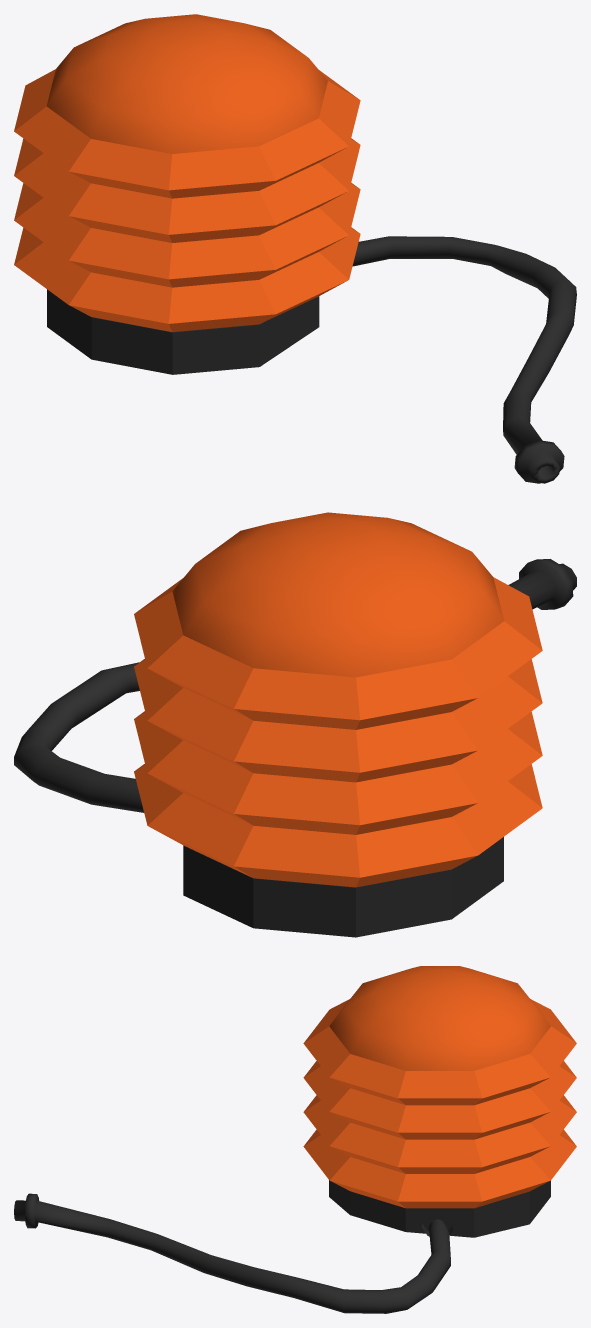
File: leg pump.fbx
3 renders of one model, top to bottom at view 1: azimuth 30°, elevation 25°; view 2: azimuth 150°, elevation 25°; view 3: azimuth 270°, elevation 25°, orthographic. The views are drawn at different scales.
Visible parts, largest first — view 1: leg pump 1, leg pump 2.001; view 2: leg pump 1, leg pump 2.001; view 3: leg pump 1, leg pump 2.001.
Boxes of the visible parts, <box> form: leg pump 1: <box>14,14,360,332</box>; leg pump 2.001: <box>47,236,576,483</box>; leg pump 1: <box>134,512,542,887</box>; leg pump 2.001: <box>14,559,576,937</box>; leg pump 1: <box>303,966,576,1208</box>; leg pump 2.001: <box>14,1180,550,1313</box>.
Size of the model in its own units: 1.67 by 0.9948 by 2.31.
